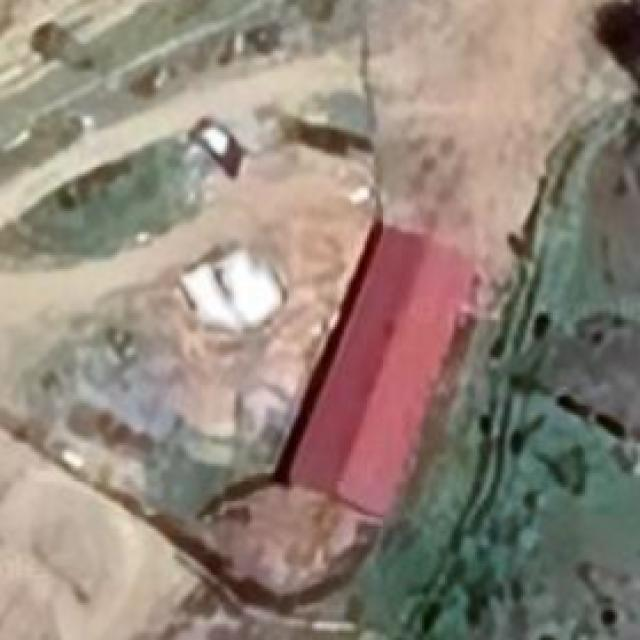Batiment: (279, 227, 475, 515)
